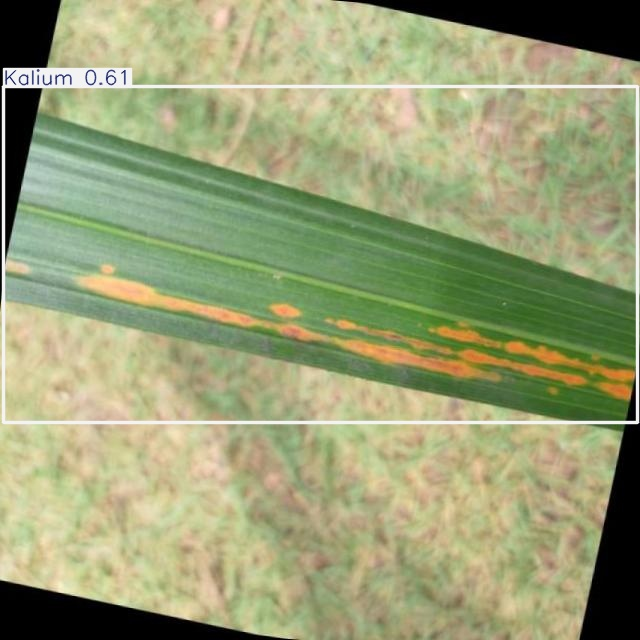Kalium: (3, 86, 638, 422)
